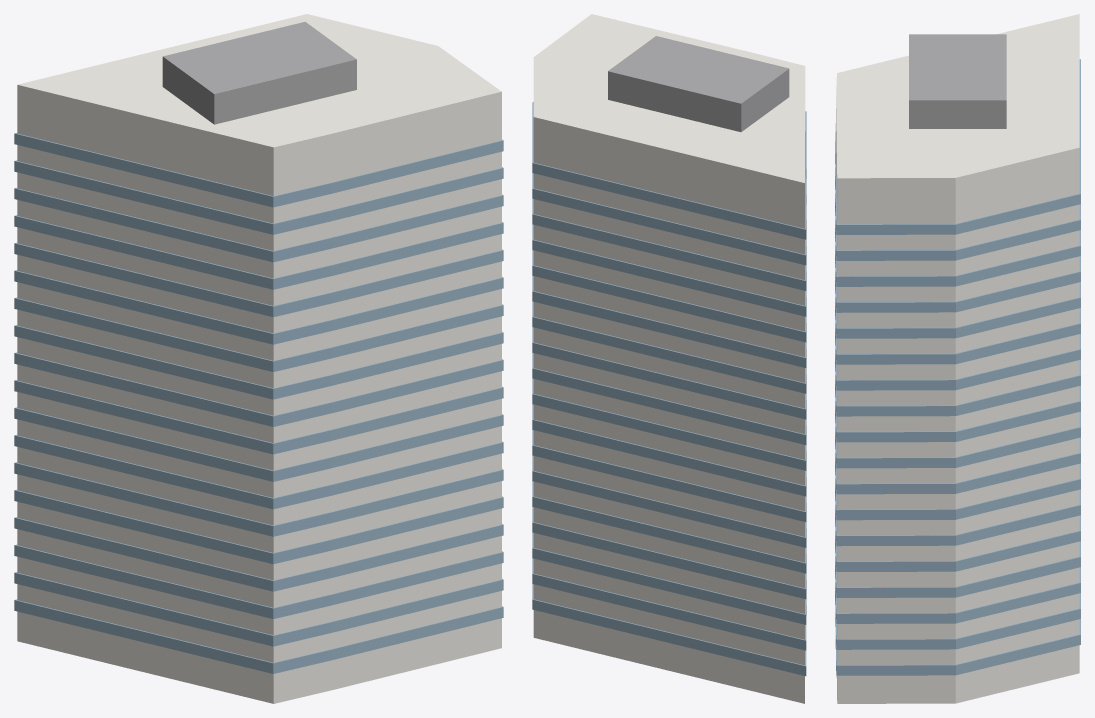
Rendered from basel-st-jakob-turm.glb.
The picture shows the model from 3 angles, left to right: view 1: azimuth 30°, elevation 25°; view 2: azimuth 150°, elevation 25°; view 3: azimuth 270°, elevation 25°; orthographic projection. The views are drawn at different scales.
Visible parts, largest first — view 1: building; view 2: building; view 3: building.
Boxes of the visible parts, left/top/right/bottom form: building: left=14, top=14, right=503, bottom=703; building: left=532, top=14, right=806, bottom=703; building: left=835, top=14, right=1080, bottom=703.
Size of the model in its own units: 49.4 by 77 by 30.95.
